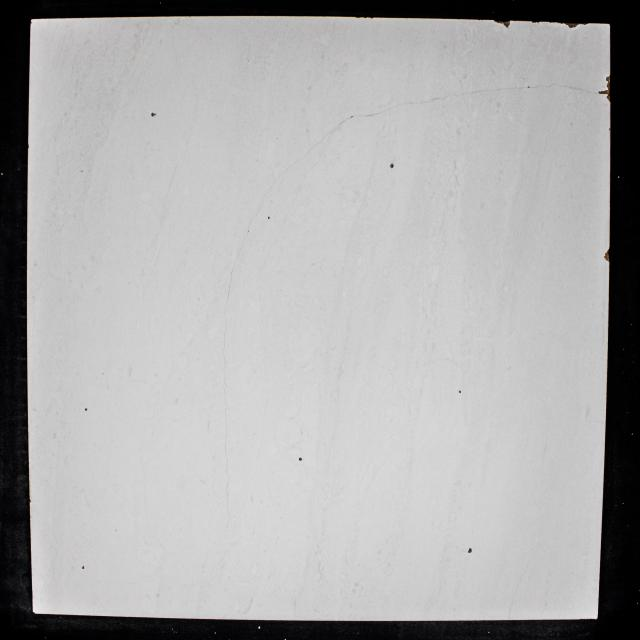edge-chipping: (493, 20, 512, 29), (564, 22, 580, 29), (603, 247, 610, 263), (605, 74, 611, 88), (598, 89, 611, 95), (605, 95, 611, 102)
hole: (150, 111, 157, 118), (467, 548, 473, 554), (389, 163, 395, 169), (298, 457, 303, 462), (84, 407, 88, 412), (267, 216, 271, 220), (81, 566, 85, 570), (458, 390, 462, 394)
line: (407, 86, 528, 105), (221, 304, 232, 510), (263, 162, 295, 202), (296, 130, 335, 161), (226, 242, 245, 302), (336, 108, 388, 129), (531, 82, 595, 94), (243, 204, 263, 240)
